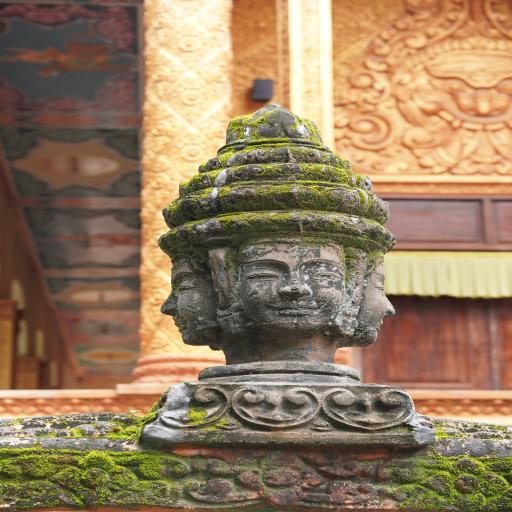la: (220, 376, 325, 428), (315, 378, 412, 430), (137, 368, 221, 426)
than: (116, 85, 454, 453), (331, 0, 512, 183)
